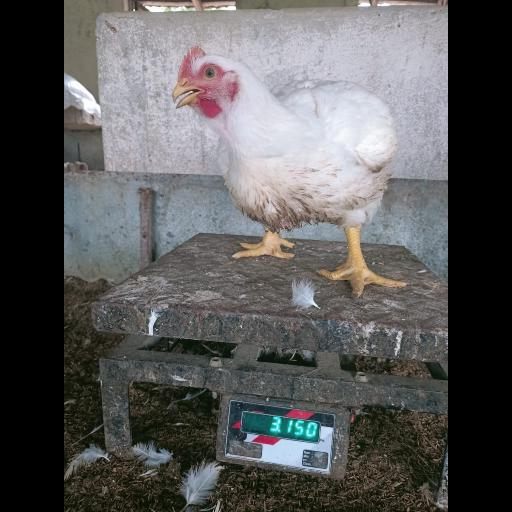chick: (174, 47, 404, 297)
